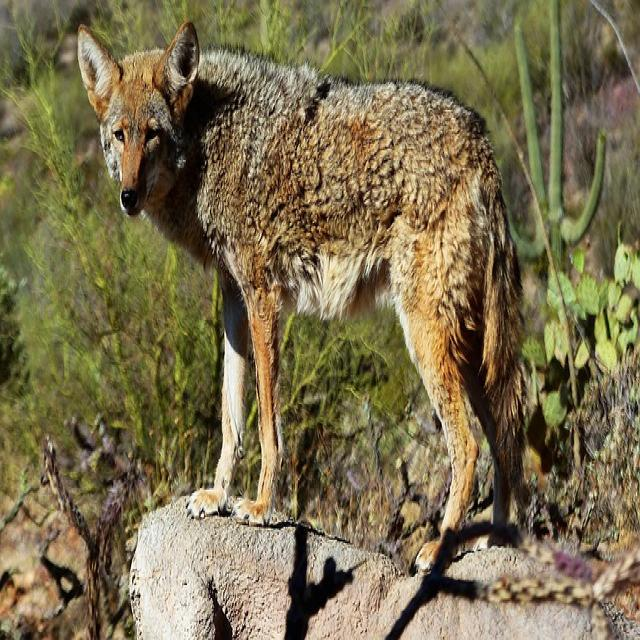Carnivorous: (73, 21, 536, 549)
